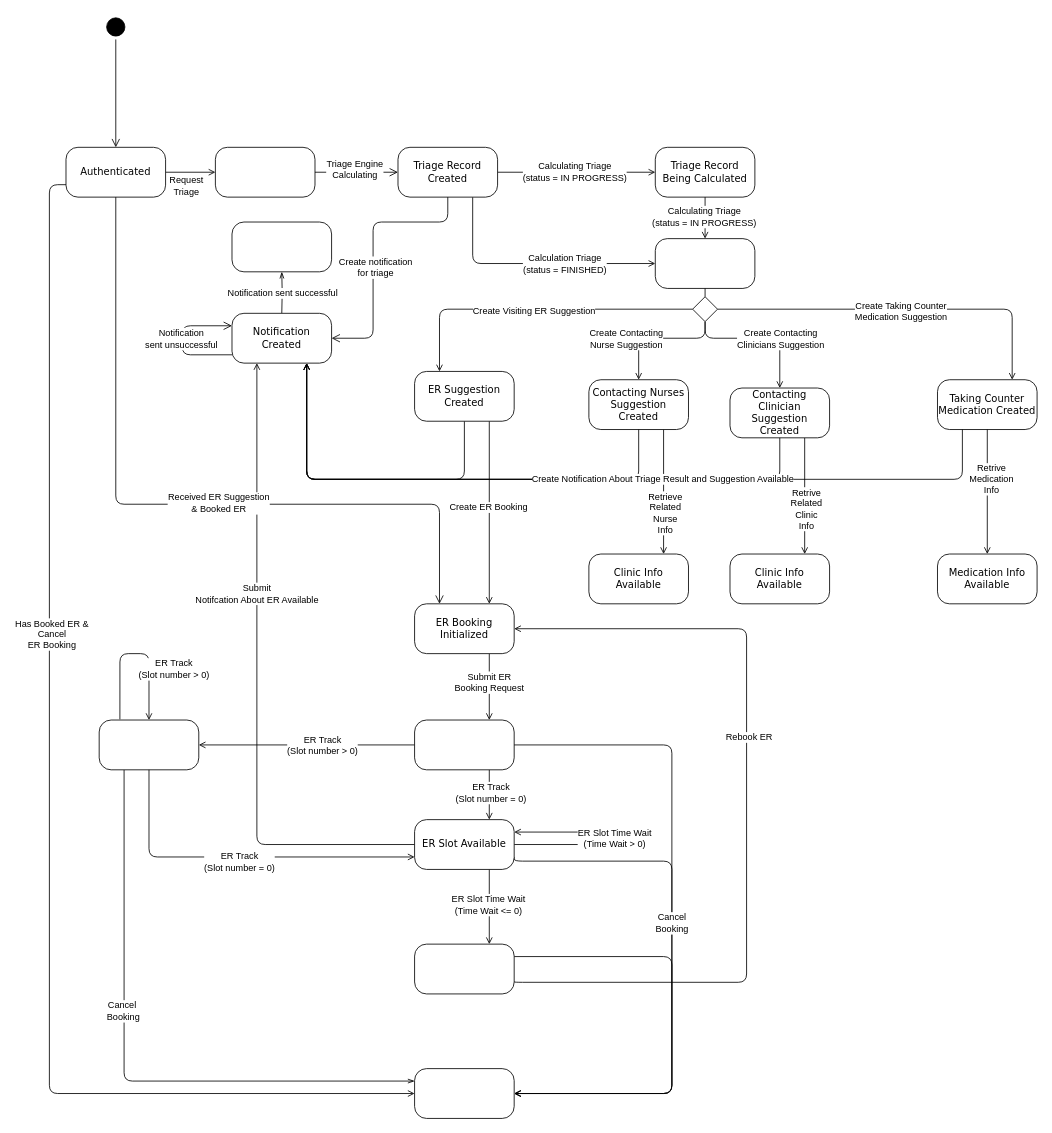
Image size: 1052x1133. Some labels were removed from this diagram. The shapes that lost their labels are listed below. From the top down, each one's centre as x and y in pixels, then its label:
point 265,171: Triage request received
point 281,246: Notification Sent
point 704,263: Triage Result Available
point 148,744: ER Slot Queueing
point 464,744: ER Booking Confirmed
point 464,968: ER Slot Timeout
point 464,1093: ER Booking Canceled
